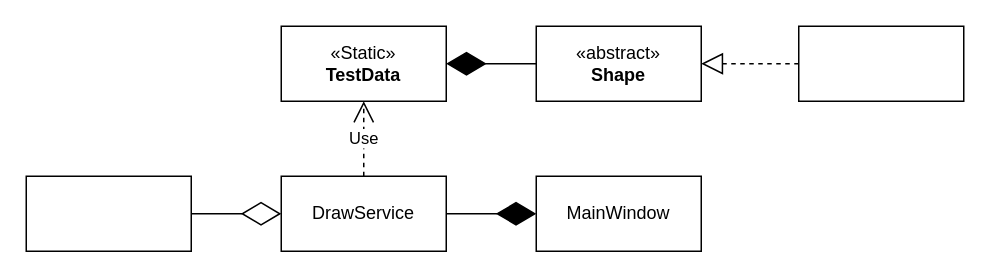
The diagram is 990 pixels wide and 279 high, and some of its shapes have lost their labels. Each missing label, with the centre of its shape:
"Resistor" belongs at point (880, 63).
"ToolTipService" belongs at point (108, 213).
